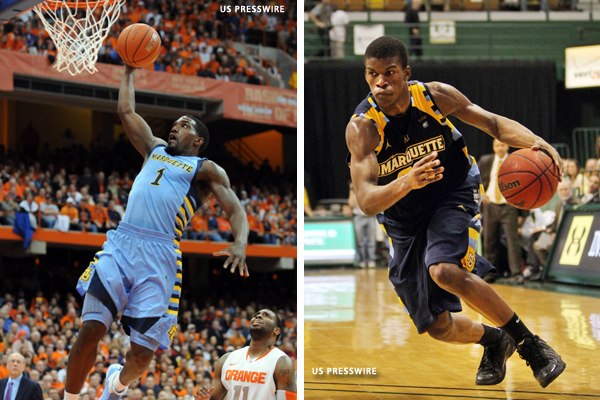ball: (498, 148, 561, 210), (117, 23, 162, 68)
basket: (34, 1, 124, 76)
player: (345, 38, 568, 390), (65, 68, 252, 399), (197, 305, 293, 400)
